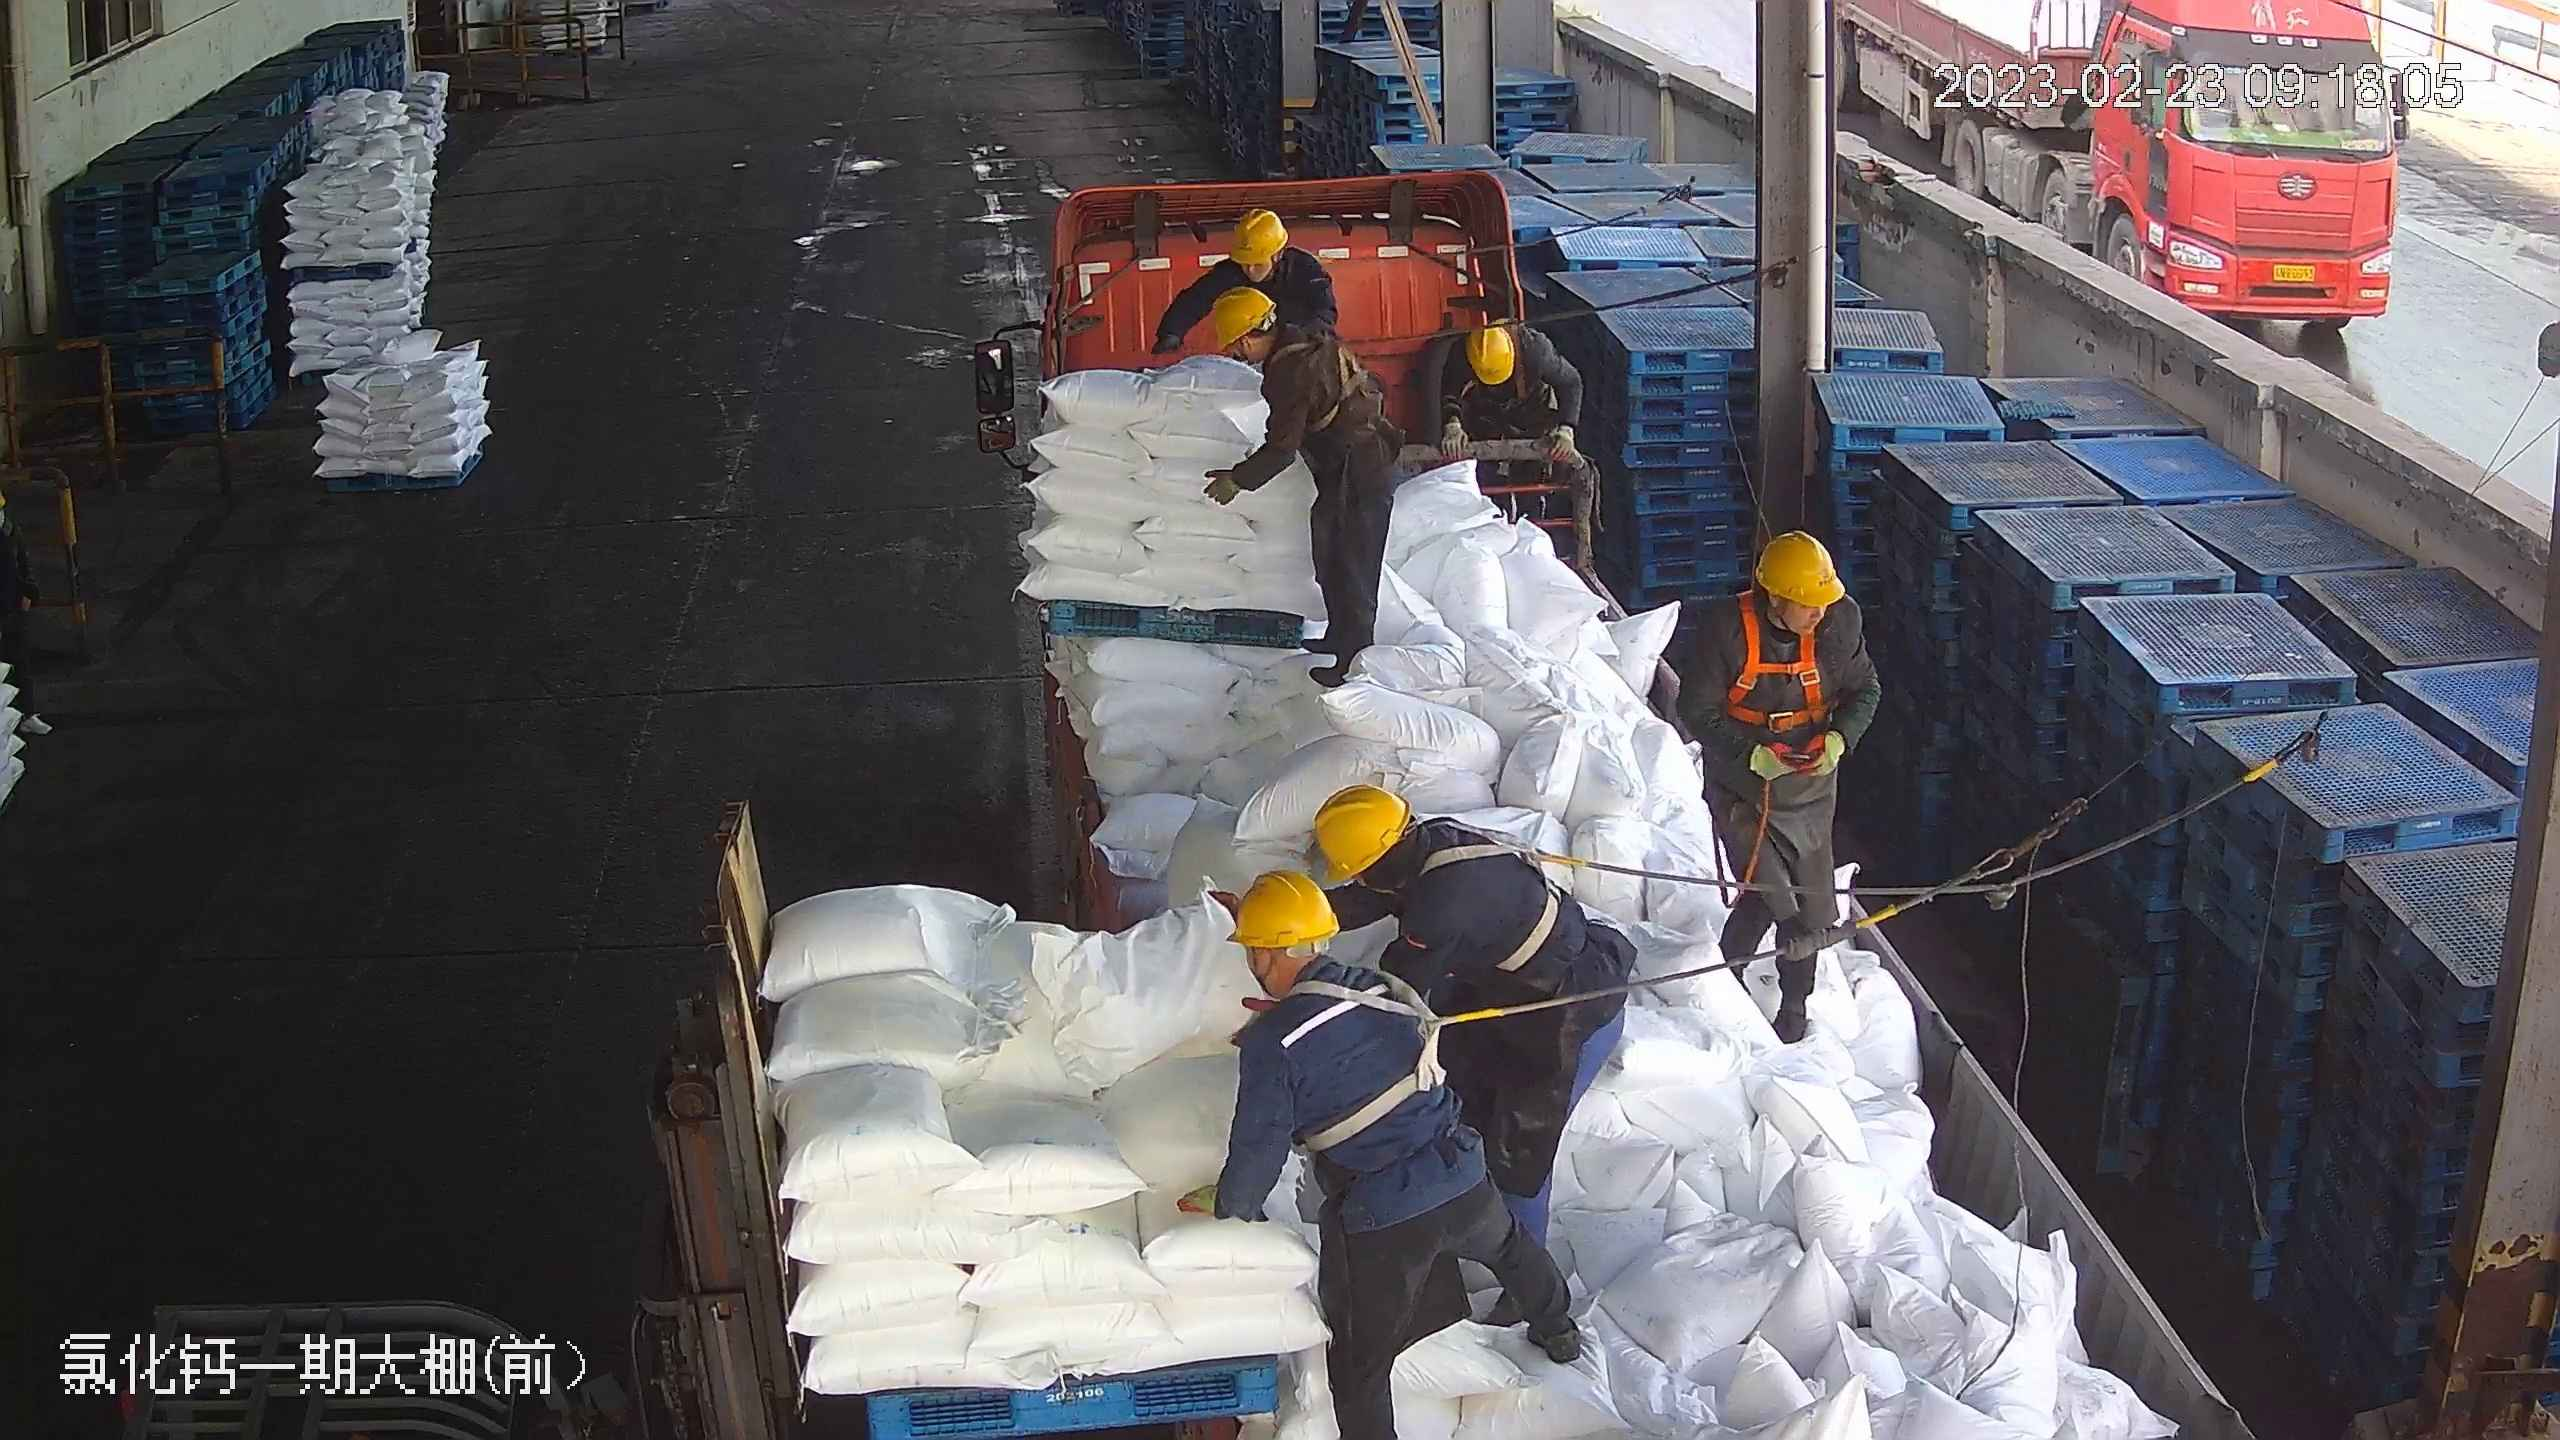belt: (1298, 987, 1484, 1148), (1420, 819, 1582, 973), (1728, 625, 1839, 744), (1275, 334, 1390, 429), (1504, 315, 1537, 401)
head: (1214, 871, 1392, 1068), (1312, 790, 1511, 931), (1702, 531, 1858, 672), (1211, 288, 1344, 402)
helmet: (1308, 781, 1409, 878), (1220, 866, 1339, 946), (1754, 528, 1846, 605), (1205, 287, 1277, 350), (1464, 324, 1520, 386), (1228, 205, 1290, 261)
people: (1183, 871, 1578, 1434), (1317, 772, 1631, 1314), (1670, 531, 1878, 1056), (1199, 294, 1401, 693), (1422, 317, 1595, 560)
truck: (979, 192, 2254, 1418), (1806, 1, 2404, 374)
